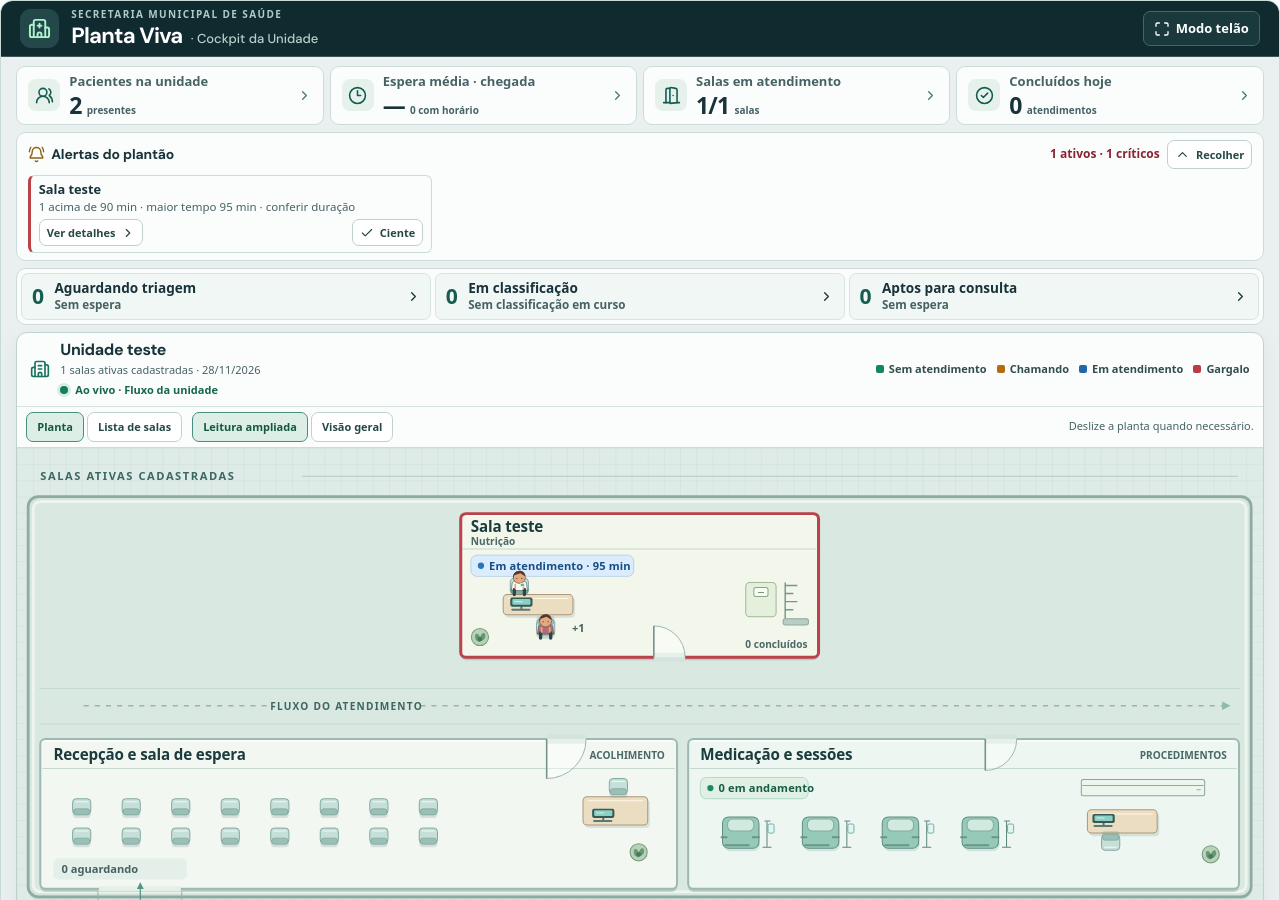
Scenario: abre só os pacientes do alerta, registra ciência nesta tela e remove o alerta resolvido
This screenshot has width=1280, height=900.
Later steps or results of the test are not shown.
What coordinates should you click on to do the following:
click the button with aria-label "Ciente de Sala teste"
I would click on:
 (388, 232)
Its box is left=352, top=219, right=423, bottom=246.
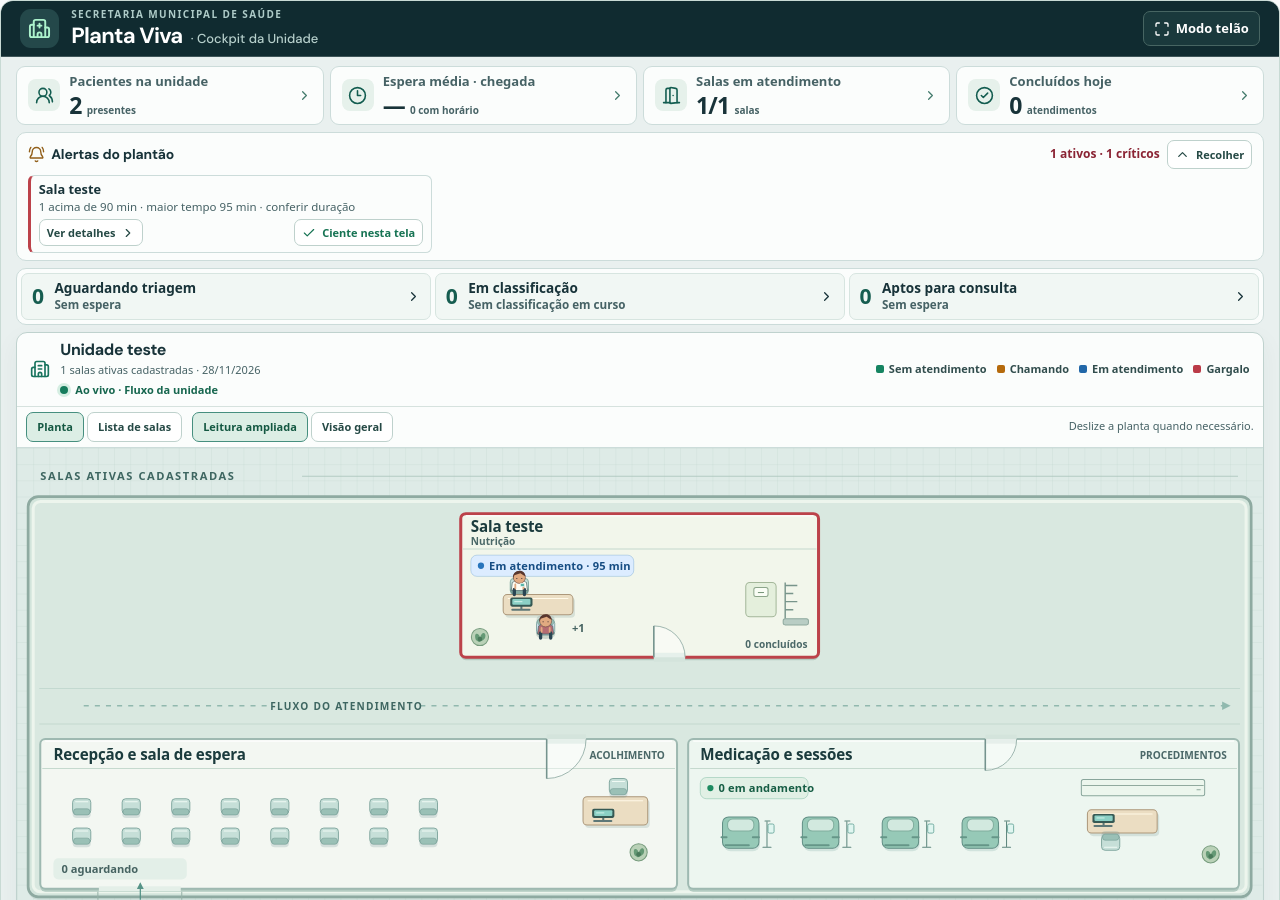
Now the button with aria-label "Ciente de Sala teste" is pressed, box left=294, top=219, right=423, bottom=246
What coordinates should you click on to do the following:
click the button with aria-label "Ver detalhes de Sala teste"
I would click on:
 (91, 232)
Its box is left=39, top=219, right=144, bottom=246.
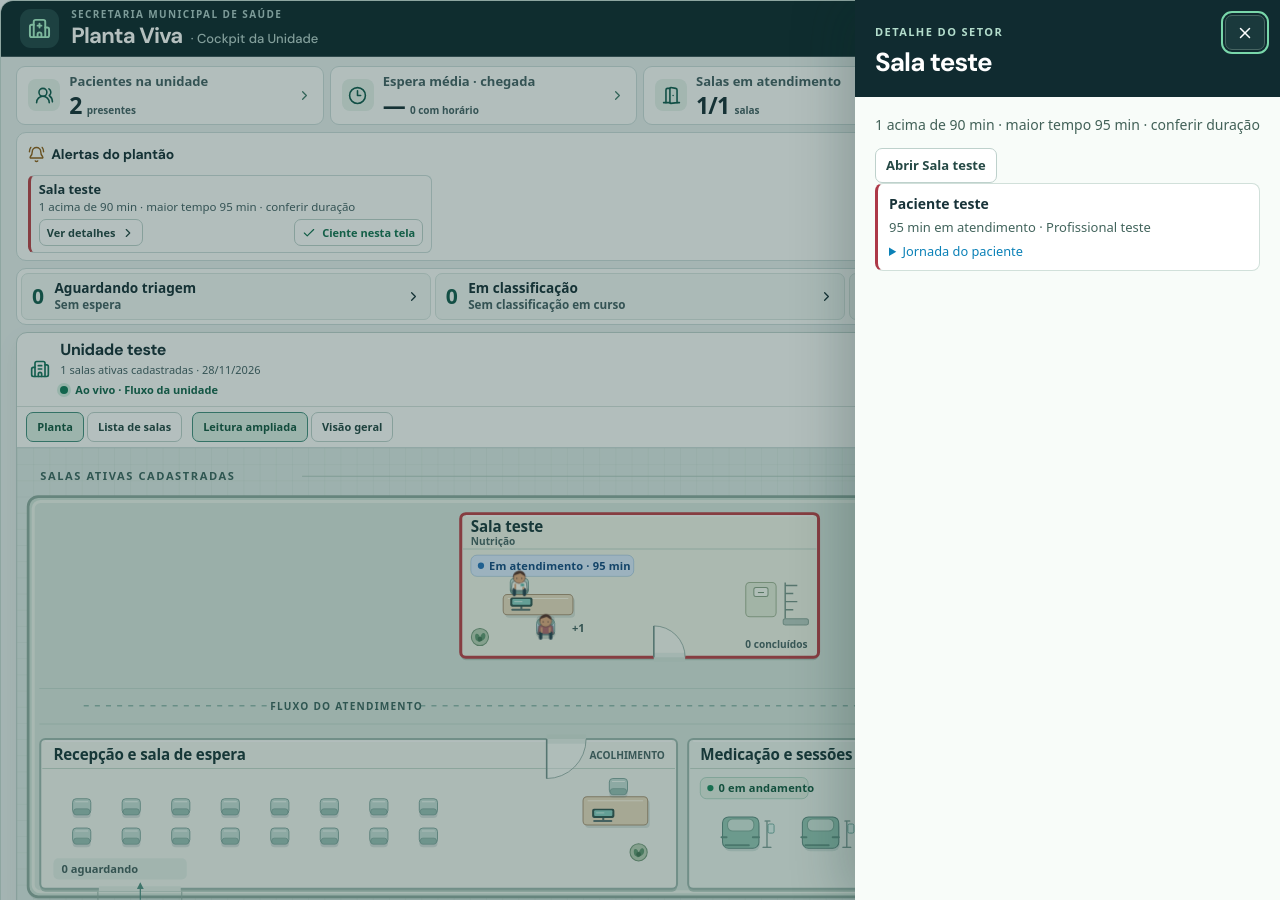
Now the text "Paciente teste" is shown, box left=889, top=194, right=989, bottom=213
What coordinates should you click on to do the following:
click the heading "Jornada do paciente"
I would click on:
 (956, 252)
Its box is left=889, top=242, right=1023, bottom=261.
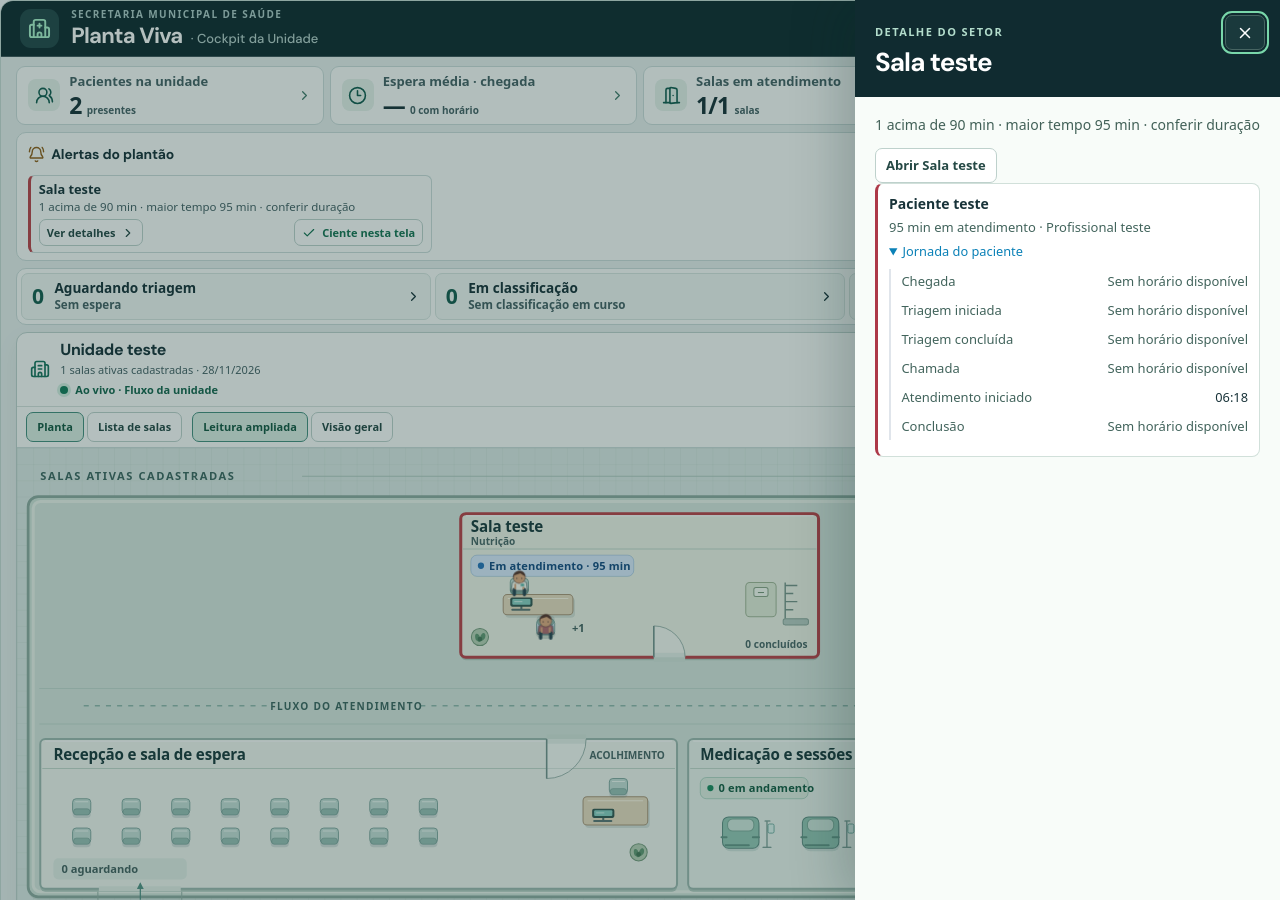
Now the text "Atendimento iniciado" is shown, box left=901, top=388, right=1032, bottom=407
